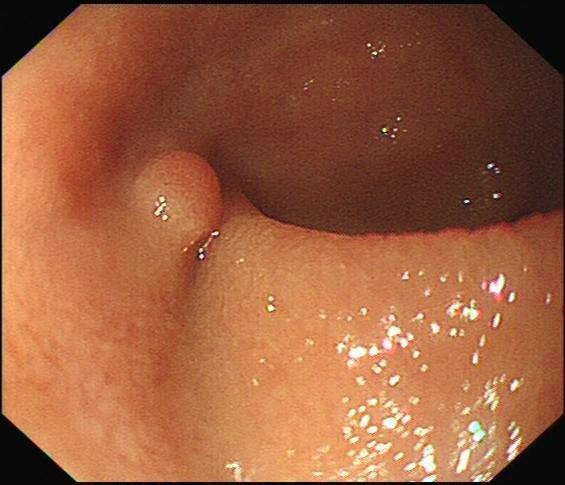Polyp: (129, 147, 225, 240)
